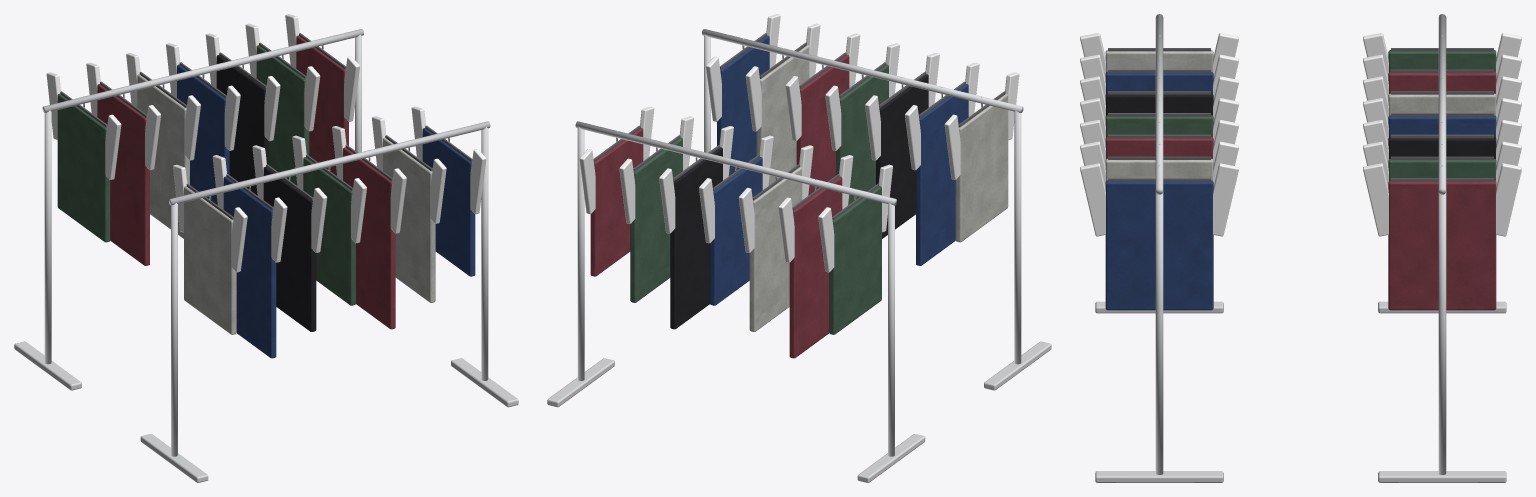
File: tienda.percheros.fbx
3 renders of one model, left to right at view 1: azimuth 30°, elevation 25°; view 2: azimuth 150°, elevation 25°; view 3: azimuth 270°, elevation 25°, orthographic. The views are drawn at different scales.
Parts seen in each view (by area): view 1: Prenda.013, Prenda.006, Prenda.005, Prenda.002, Prenda.012, Prenda.004, Prenda.001, Prenda, Prenda.003, Prenda.011, Prenda.008, Prenda.009 (+26 smaller); view 2: Prenda.006, Prenda.013, Prenda.012, Prenda.009, Prenda.005, Prenda.011, Prenda.008, Prenda.007, Prenda.010, Prenda.004, Prenda.001, Prenda.002 (+26 smaller); view 3: Prenda, Prenda.007, Pata, Pata.002, Prenda.004, Prenda.011, Prenda.001, Prenda.003, Prenda.005, Prenda.008, Prenda.010, Prenda.012 (+40 smaller).
Boxes of the visible parts, box(x1,y1,x2,y2) form: Prenda.013: box(57, 93, 110, 242); Prenda.006: box(184, 186, 236, 334); Prenda.005: box(223, 176, 276, 358); Prenda.002: box(343, 147, 395, 329); Prenda.012: box(97, 84, 149, 265); Prenda.004: box(263, 166, 316, 331); Prenda.001: box(383, 137, 435, 302); Prenda: box(422, 128, 475, 276); Prenda.003: box(303, 157, 355, 305); Prenda.011: box(137, 74, 189, 238); Prenda.008: box(256, 45, 309, 185); Prenda.009: box(216, 55, 269, 195); Prenda.006: box(955, 93, 1008, 242); Prenda.013: box(829, 186, 881, 334); Prenda.012: box(789, 176, 842, 358); Prenda.009: box(670, 147, 722, 329); Prenda.005: box(916, 84, 968, 265); Prenda.011: box(749, 166, 802, 331); Prenda.008: box(630, 137, 682, 302); Prenda.007: box(590, 128, 643, 276); Prenda.010: box(710, 157, 762, 305); Prenda.004: box(876, 74, 928, 238); Prenda.001: box(756, 45, 809, 185); Prenda.002: box(796, 55, 849, 195); Prenda: box(1105, 180, 1213, 310); Prenda.007: box(1388, 180, 1496, 310); Pata: box(1155, 192, 1163, 474); Pata.002: box(1438, 192, 1446, 474); Prenda.004: box(1105, 93, 1213, 115); Prenda.011: box(1388, 93, 1496, 115); Prenda.001: box(1105, 158, 1213, 180); Prenda.003: box(1105, 115, 1213, 137); Prenda.005: box(1105, 71, 1213, 93); Prenda.008: box(1388, 158, 1496, 180); Prenda.010: box(1388, 115, 1496, 137); Prenda.012: box(1388, 71, 1496, 93).
Size of the model in its own units: 1.62 by 1.27 by 1.72.
43 materials, 14 textured.
